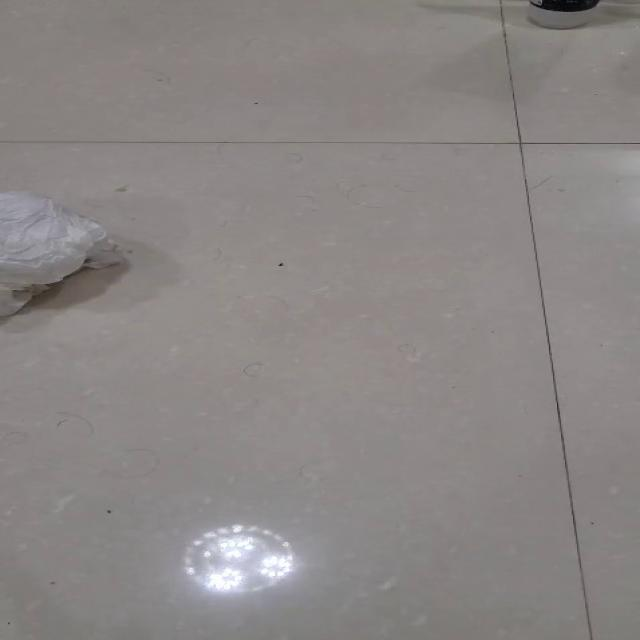plastic: (0, 190, 122, 316)
